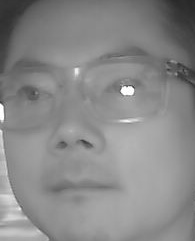glass: (81, 53, 169, 125), (1, 68, 65, 133)
mouth: (43, 174, 112, 207)
